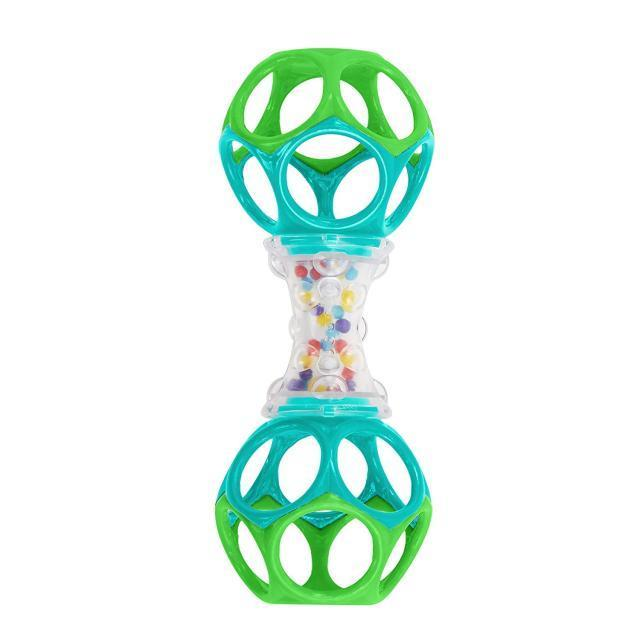hard-toy: (216, 49, 434, 603)
